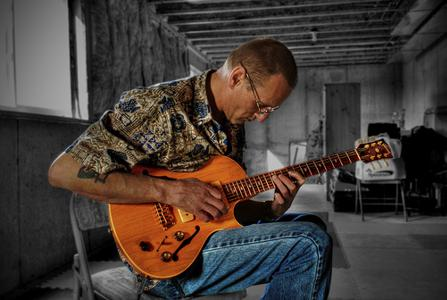person: (48, 38, 334, 299)
